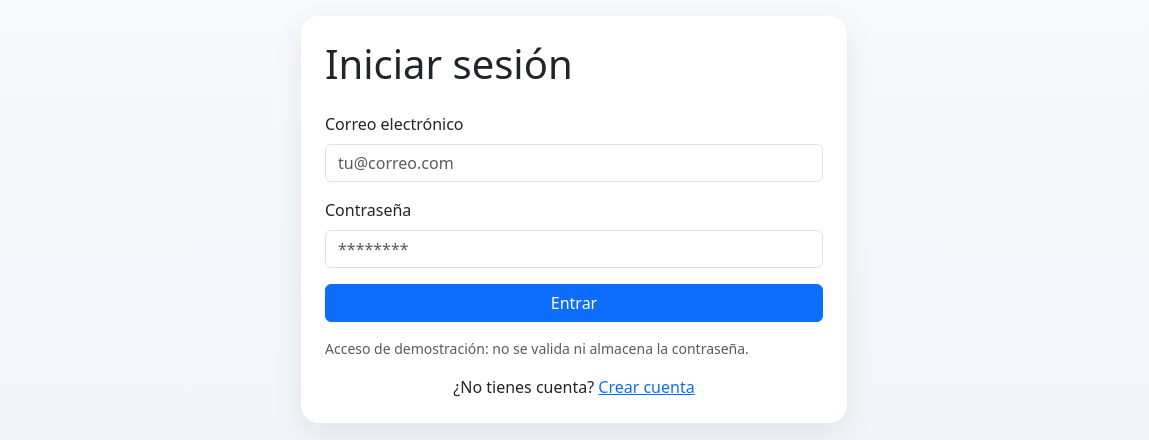
Scenario: Flujos de cuenta, perfil y carrito › inicia sesión en modo demo usando el correo y no persiste la contraseña
Type "jugador@example.com" into the field labelled "Correo electrónico" at (574, 163), box [325,144,823,182]
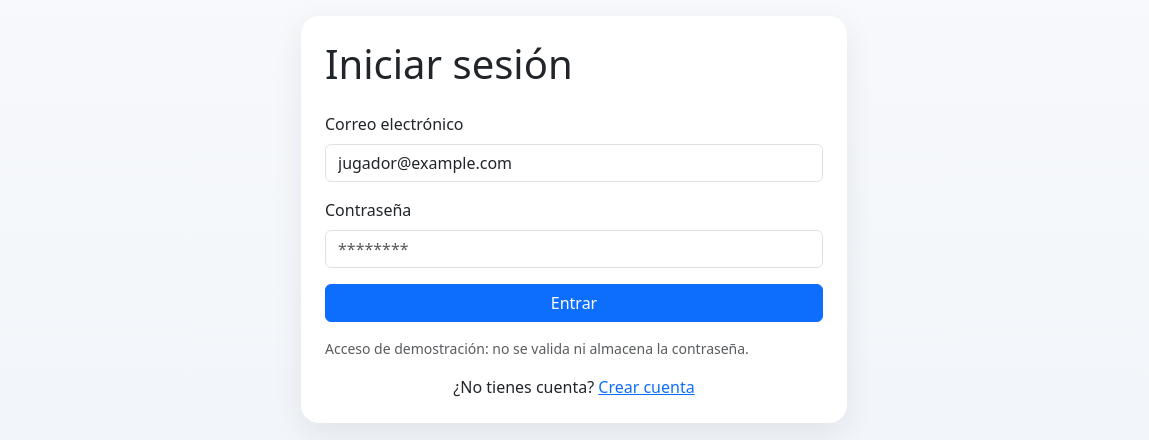
Type "clave-temporal" into the password field labelled "Contraseña" at (574, 249), box [325,230,823,268]
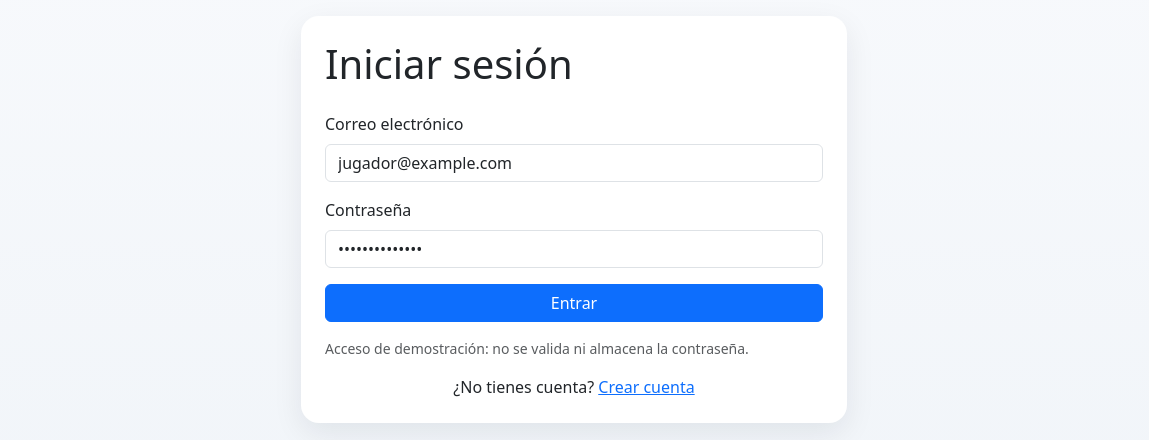
Click the button "Entrar" at (574, 303), box [325,284,823,322]
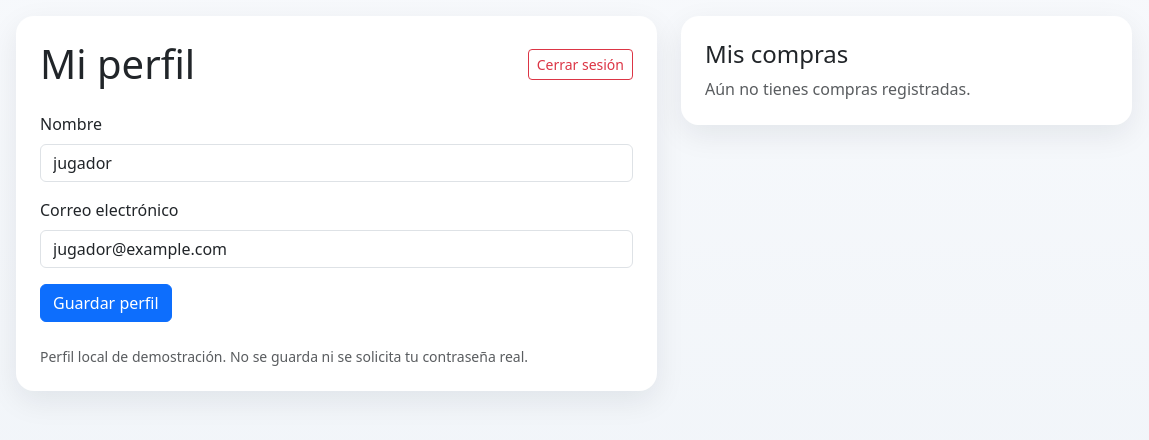
Check: the heading "Mi perfil" is shown, box [40,40,195,88]
